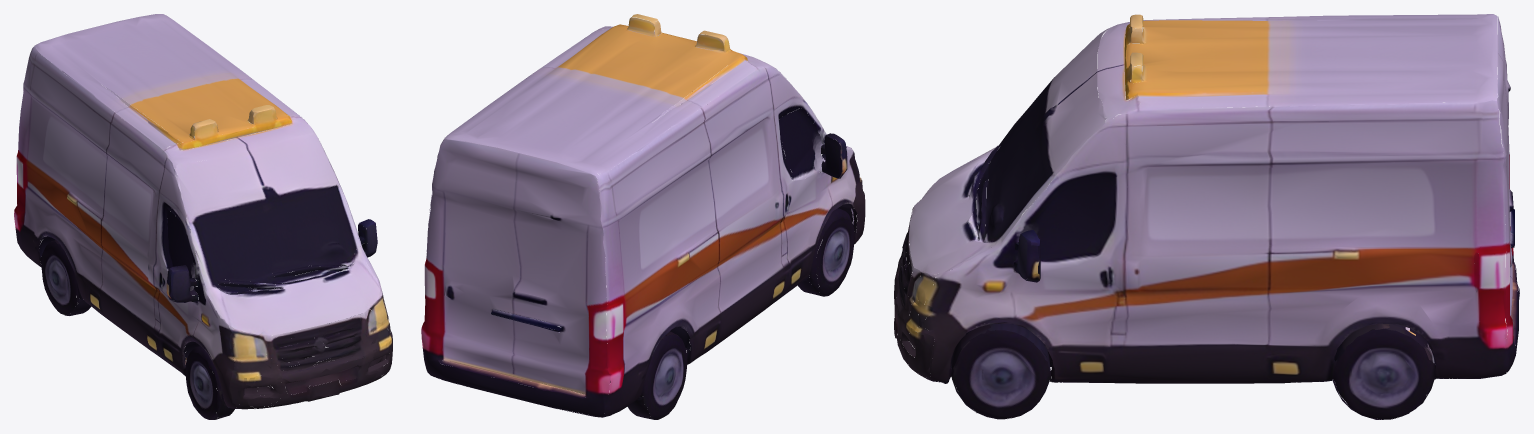
The model's file is h3-van.glb.
3 renders of one model, left to right at view 1: azimuth 30°, elevation 25°; view 2: azimuth 150°, elevation 25°; view 3: azimuth 270°, elevation 25°, orthographic. The views are drawn at different scales.
Parts seen in each view (by area): view 1: tmpx1197heh.ply; view 2: tmpx1197heh.ply; view 3: tmpx1197heh.ply.
Boxes of the visible parts, <box> form: tmpx1197heh.ply: <box>14,14,392,419</box>; tmpx1197heh.ply: <box>421,14,865,419</box>; tmpx1197heh.ply: <box>894,14,1519,419</box>.
Bounding box in the file's own units: 1.02 × 1.15 × 1.99.
Materials: 1 (1 with a texture image).
